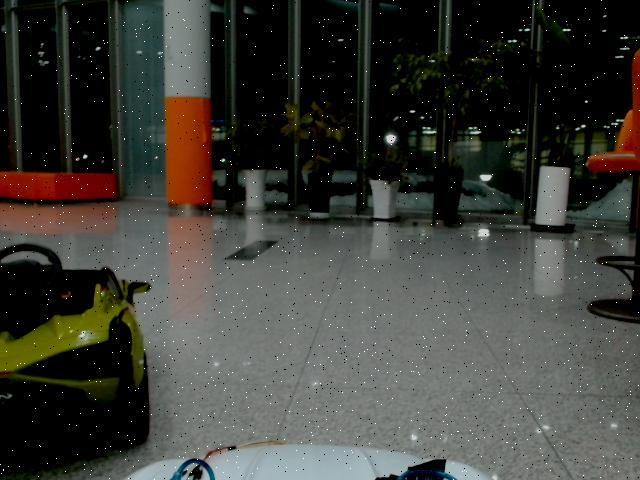car: (1, 243, 151, 463)
